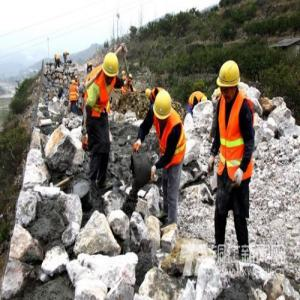yellow: (218, 61, 242, 105), (153, 92, 174, 123), (103, 53, 119, 87), (146, 88, 152, 100)
